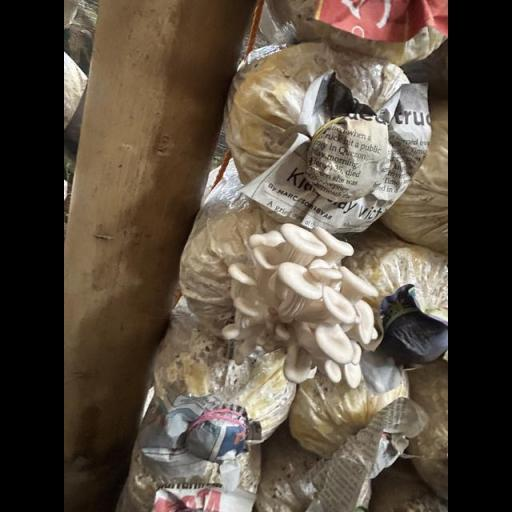White Oyster Mushroom: (217, 220, 381, 394)
